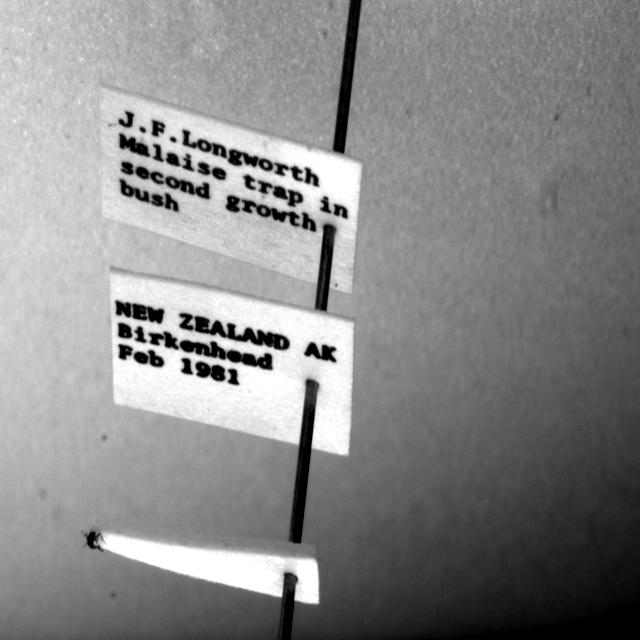typed_label: (101, 86, 361, 292), (110, 268, 354, 456)
